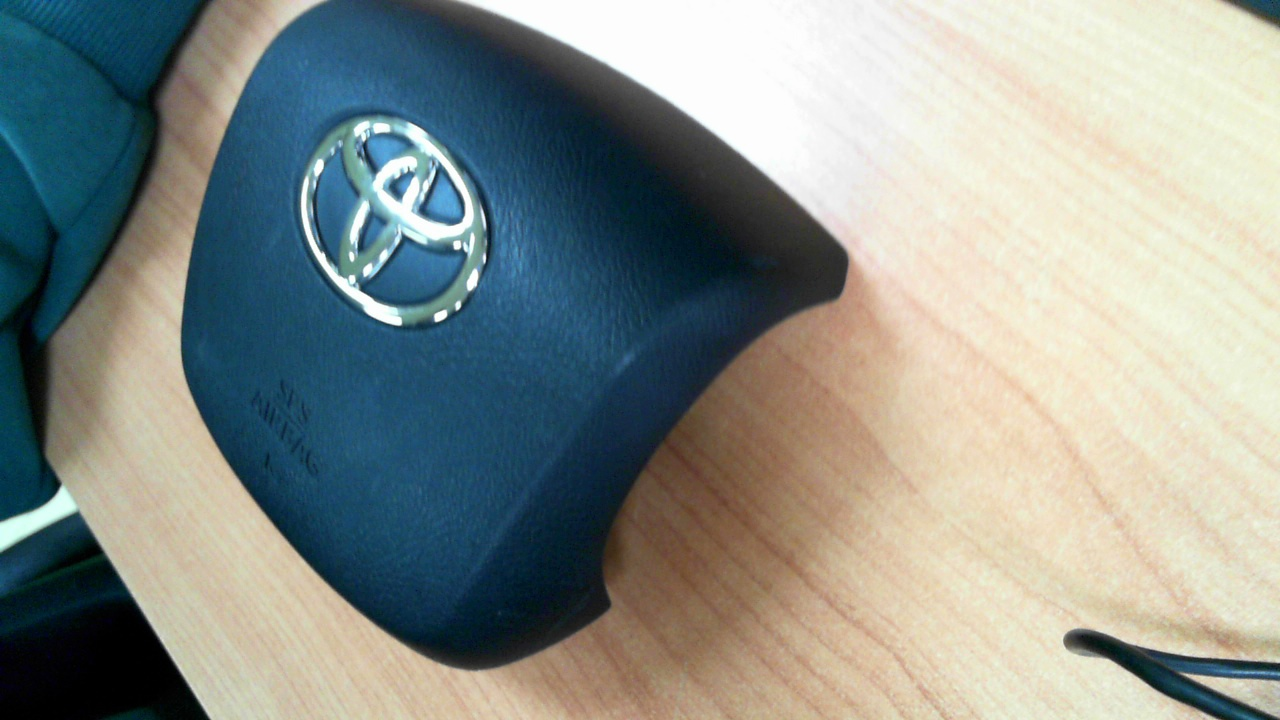Airbag: (181, 0, 849, 671)
Toyota: (300, 115, 488, 326)
